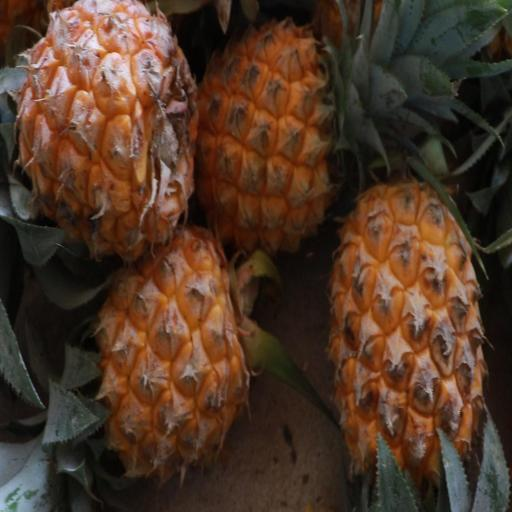Pineapple - v8 v1: (320, 168, 499, 512), (0, 0, 212, 280), (72, 210, 259, 484), (188, 8, 366, 264)
